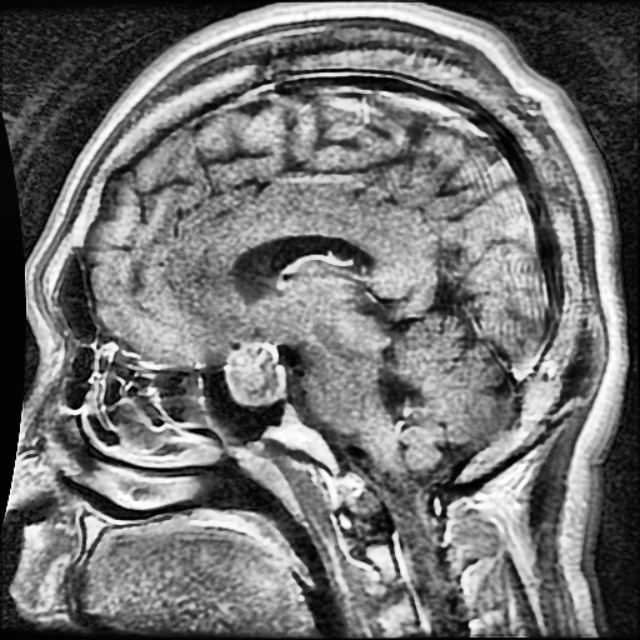Pituitary: (225, 342, 289, 407)
